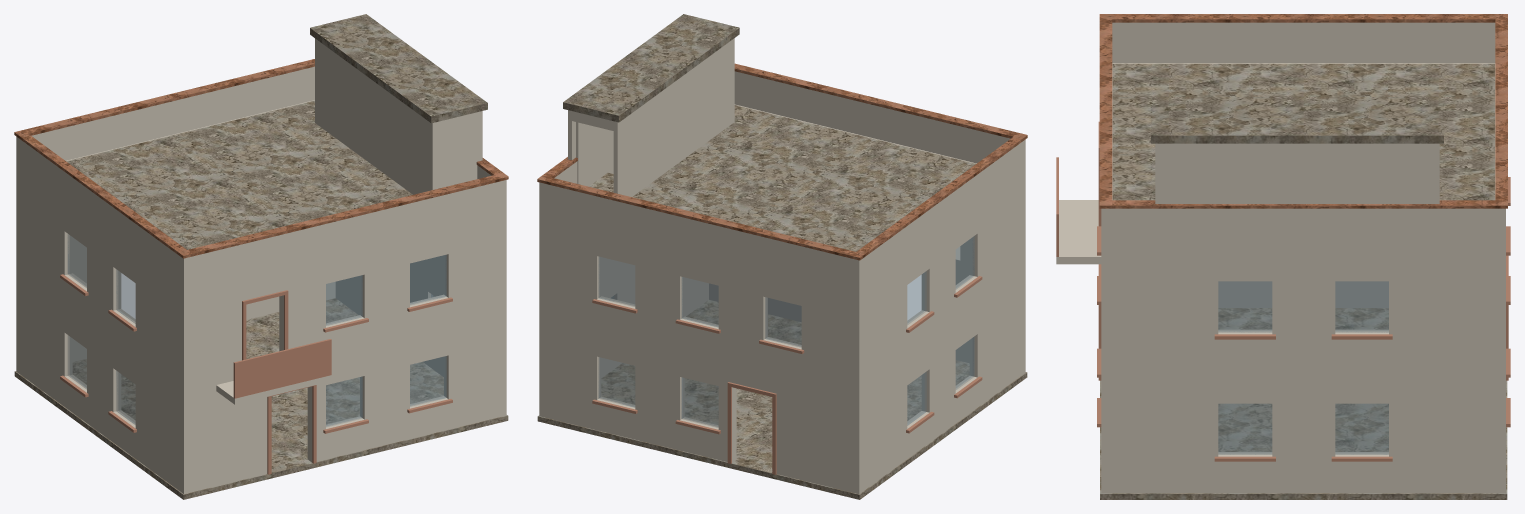
Rendered from bay-villa-cream.coast-v2.lod1.glb.
3 views of the same model, side by side, from view 1: azimuth 30°, elevation 25°; view 2: azimuth 150°, elevation 25°; view 3: azimuth 270°, elevation 25° (orthographic). The views are drawn at different scales.
Visible parts, largest first — view 1: bay-villa-cream; view 2: bay-villa-cream; view 3: bay-villa-cream.
Part boxes in pixels (box(x1,y1,x2,y2)): bay-villa-cream: box(14, 14, 508, 499); bay-villa-cream: box(537, 14, 1027, 499); bay-villa-cream: box(1056, 14, 1510, 499).
Size of the model in its own units: 10.2 by 8.95 by 10.1.
Materials: 3 (1 with a texture image).
